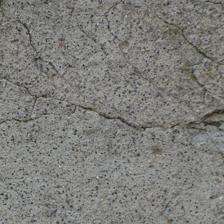Crack: (30, 0, 79, 66), (0, 96, 95, 128), (50, 127, 105, 173), (48, 46, 82, 88)
